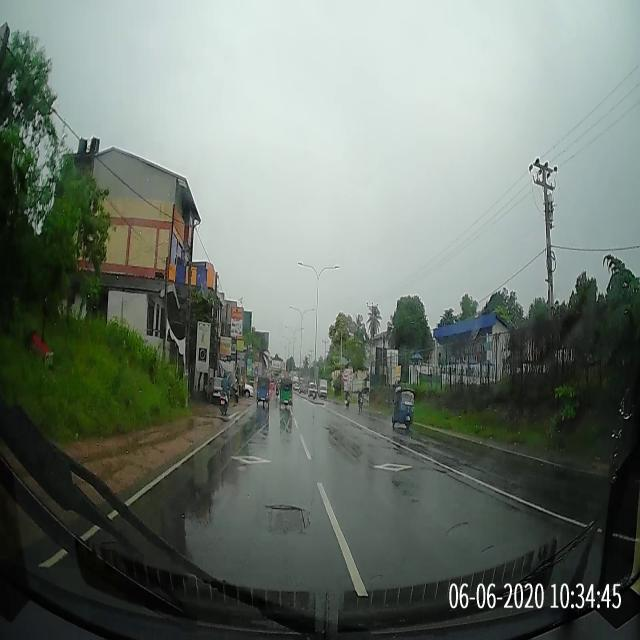diamond: (162, 444, 318, 471)
